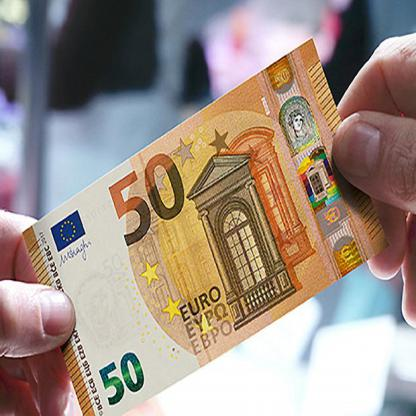euro_banknote: (28, 130, 383, 336)
